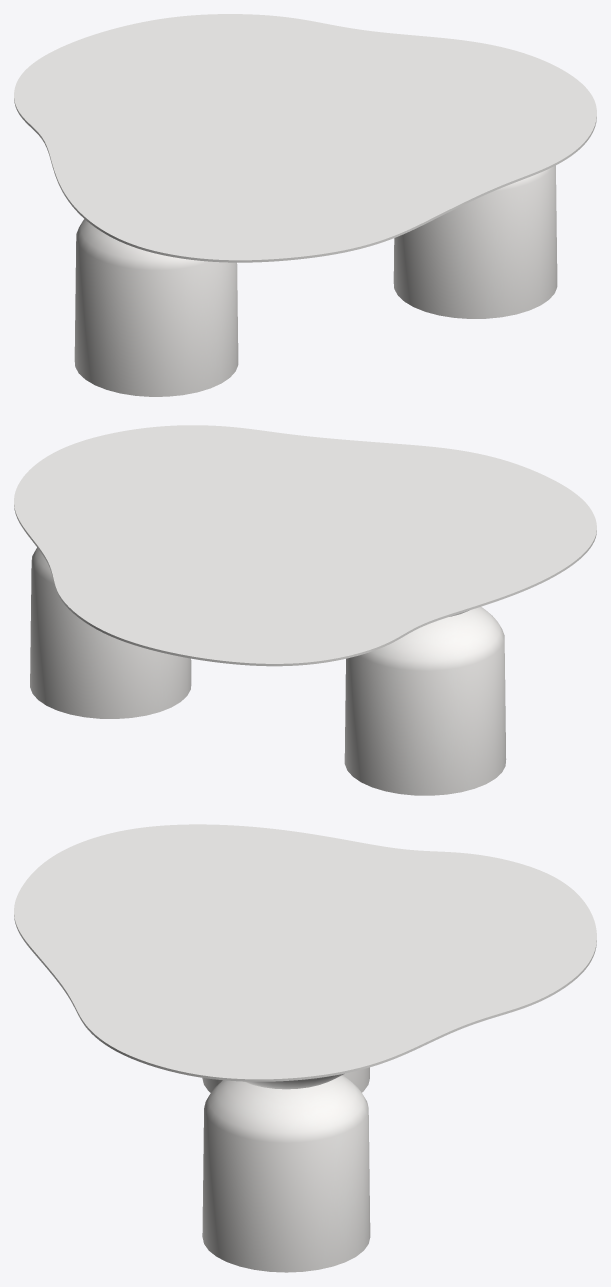
File: purewhite_topone_facet_tornado.glb
3 renders of one model, top to bottom at view 1: azimuth 30°, elevation 25°; view 2: azimuth 150°, elevation 25°; view 3: azimuth 270°, elevation 25°, orthographic. The views are drawn at different scales.
Parts seen in each view (by area): view 1: facet_topone, tornado; view 2: facet_topone, tornado; view 3: facet_topone, tornado.
Part boxes in pixels (<box>): facet_topone: <box>14,14,596,262</box>; tornado: <box>74,165,557,396</box>; facet_topone: <box>14,425,596,666</box>; tornado: <box>30,547,506,795</box>; facet_topone: <box>14,824,596,1081</box>; tornado: <box>202,1067,370,1272</box>.
Size of the model in its own units: 6.83 by 2.5 by 6.6.
Materials: 1 (1 with a texture image).
